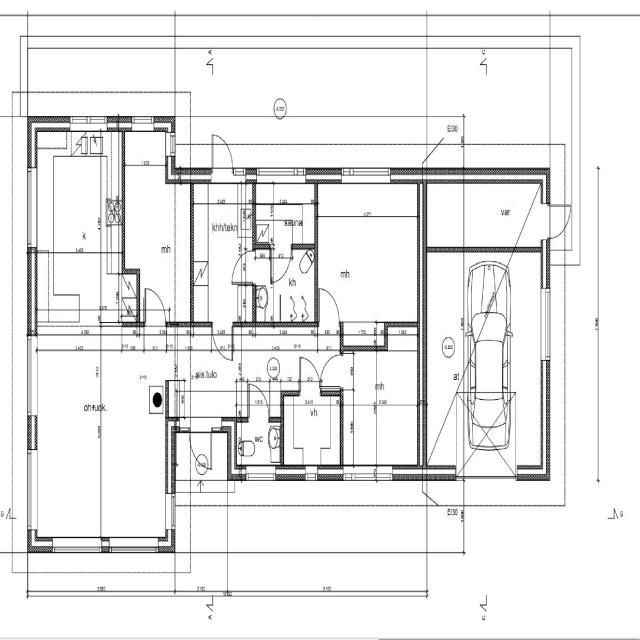door: (208, 132, 236, 181), (142, 283, 169, 330), (545, 199, 572, 241), (317, 285, 342, 330), (320, 352, 342, 390), (211, 326, 234, 362), (298, 354, 322, 388), (270, 249, 292, 284), (247, 381, 270, 414), (230, 254, 247, 284)
window: (23, 162, 40, 254), (23, 446, 40, 536), (108, 533, 162, 559), (49, 534, 102, 560), (538, 285, 554, 366), (339, 165, 394, 187), (254, 165, 312, 184), (68, 112, 108, 134), (343, 466, 381, 485), (243, 467, 278, 483), (165, 489, 177, 535), (129, 113, 156, 131), (374, 464, 396, 486), (304, 464, 320, 482)
zone: (34, 334, 174, 546), (34, 125, 174, 334), (424, 252, 545, 480), (314, 180, 421, 324), (342, 349, 420, 478), (191, 180, 251, 319), (425, 181, 545, 250), (252, 178, 317, 249), (282, 396, 342, 469), (270, 248, 317, 323), (177, 429, 231, 492), (235, 416, 283, 474), (250, 251, 274, 323), (236, 283, 255, 323)
